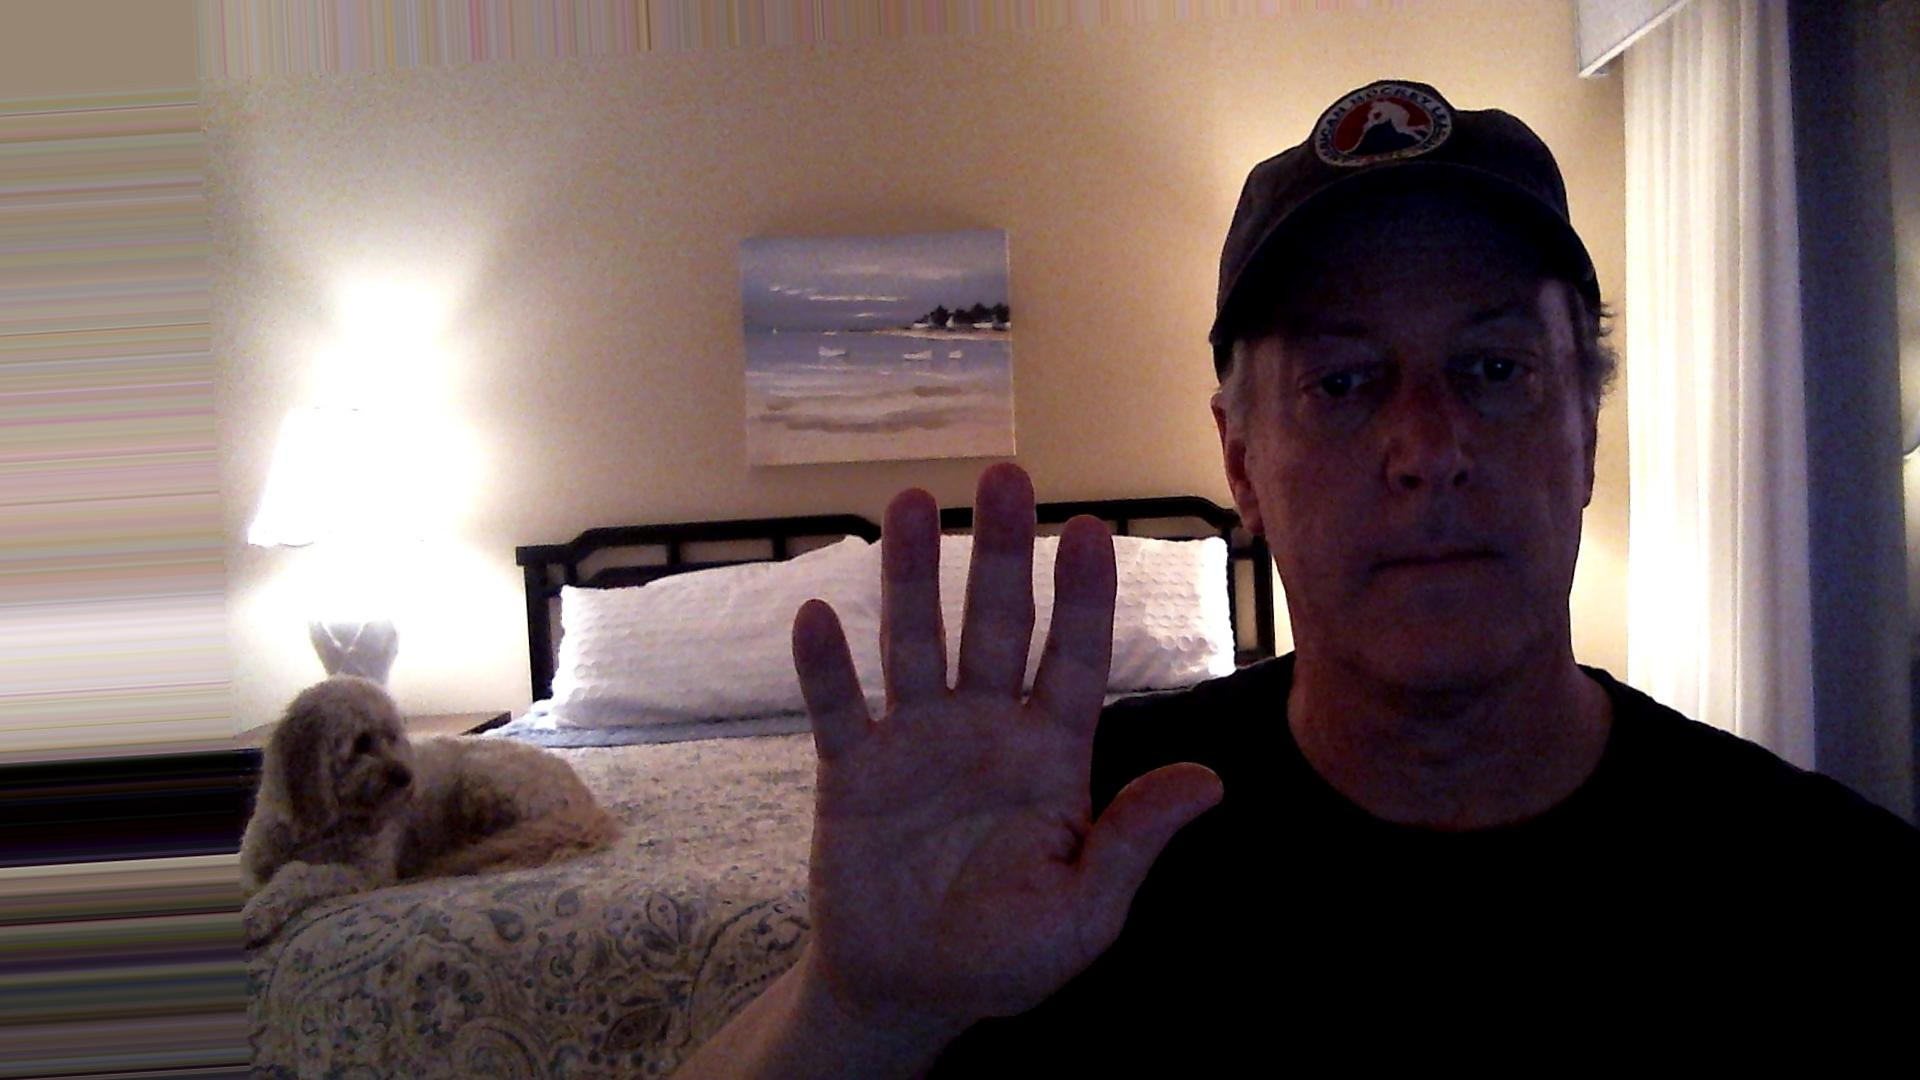Hello: (769, 450, 1257, 1048)
